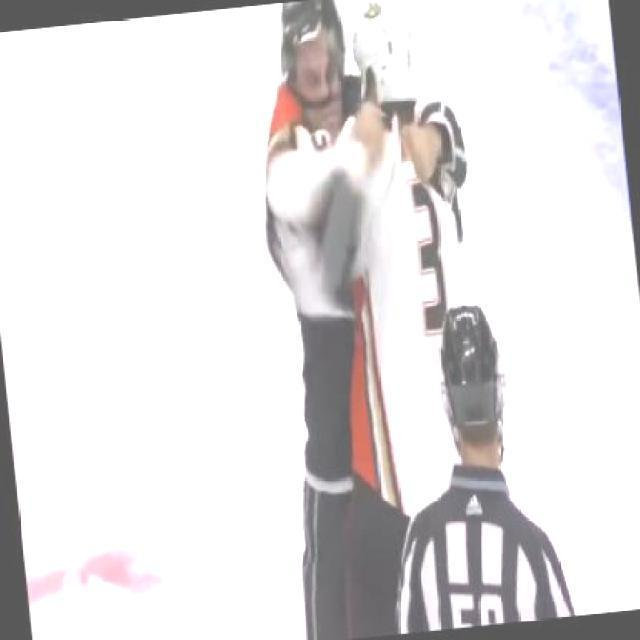fight: (238, 0, 511, 588)
